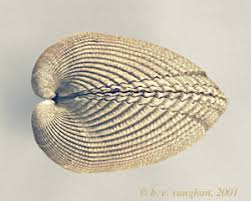cockle: (30, 29, 230, 174)
